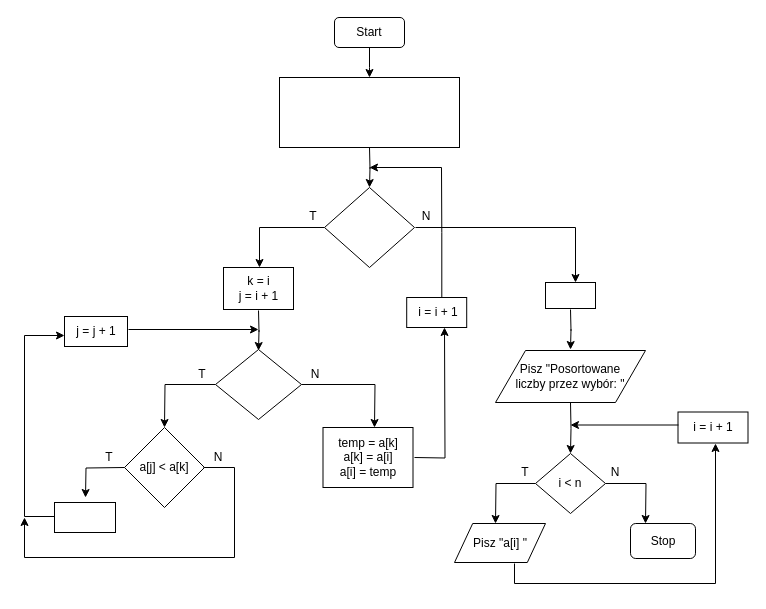
Image size: 766x609. Some labels were removed from this diagram. The centre of each missing label's shape, as x and y in pixels:
"a = {5, 7, 1, 8, 6, 2, 0, 4, 9, 3} n = 10 i = 0 j = 0" goes at [369,112].
"i < n - 1" goes at [369,227].
"i = 0" goes at [570,295].
"j < n" goes at [258,384].
"k = j" goes at [85,517].
